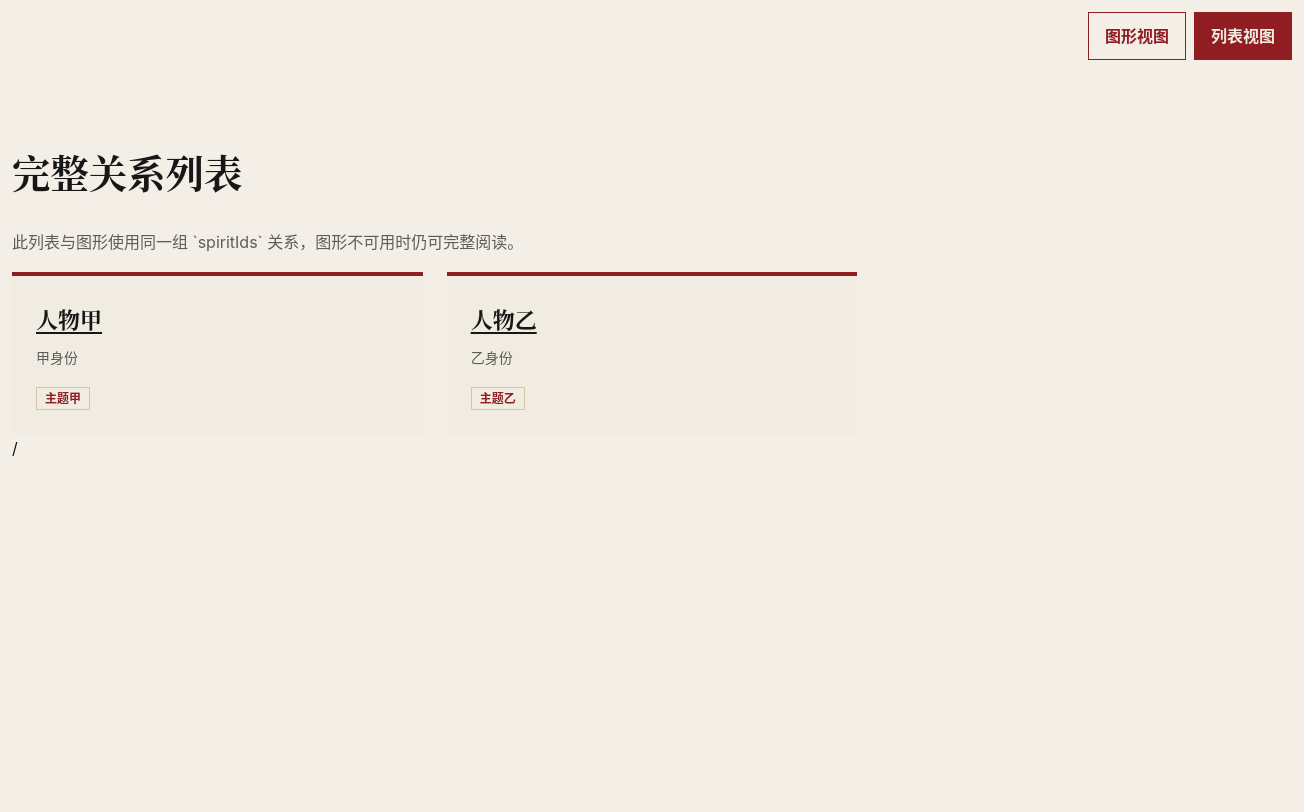
defaults to the complete text relationship list below 720px and can reveal the graphic
The image size is (1304, 812).
Expected: the heading "选择节点查看关系" is not shown
Expected: the list item "主题甲" is shown, x1=36 y1=387 x2=90 y2=410
Click the button with aria-label "切换到图形视图": [1137, 36] box x1=1088 y1=12 x2=1186 y2=60
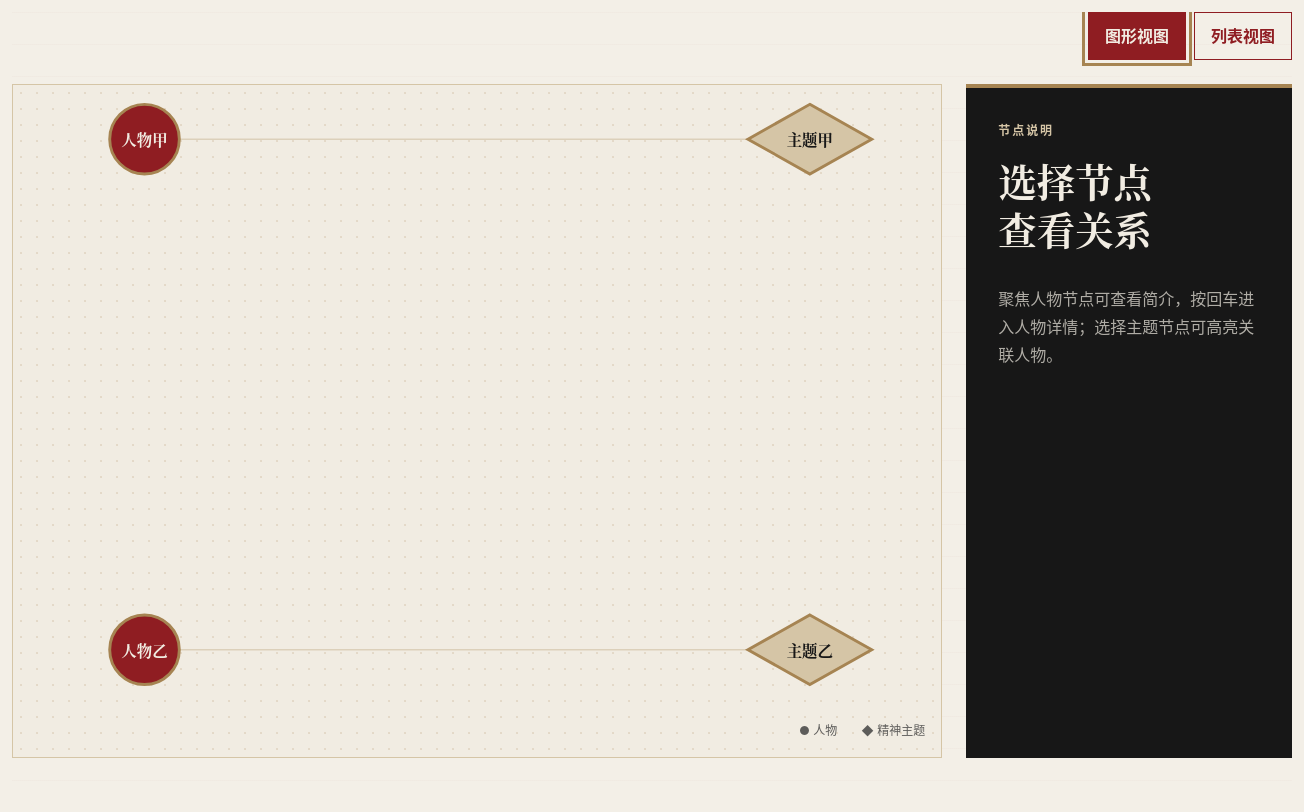
Expected: the icon with test id "scientist-graph-svg" is shown, x1=13 y1=85 x2=941 y2=704
Expected: the heading "选择节点查看关系" is shown, x1=998 y1=153 x2=1152 y2=256
